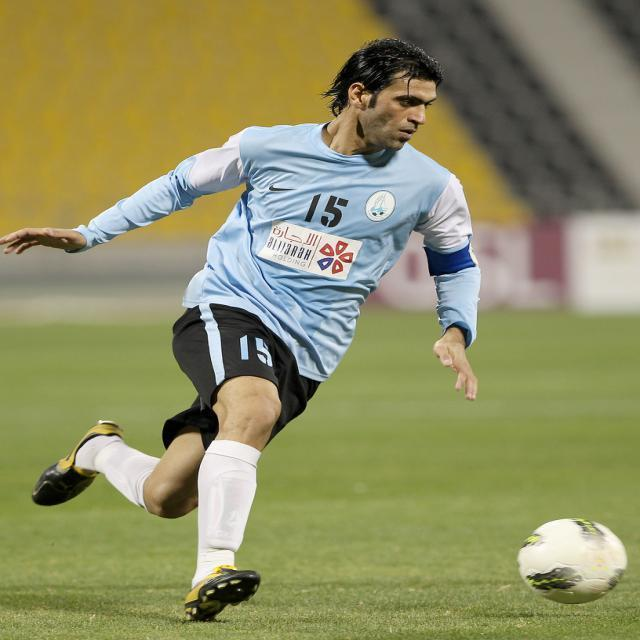football: (508, 509, 640, 623)
